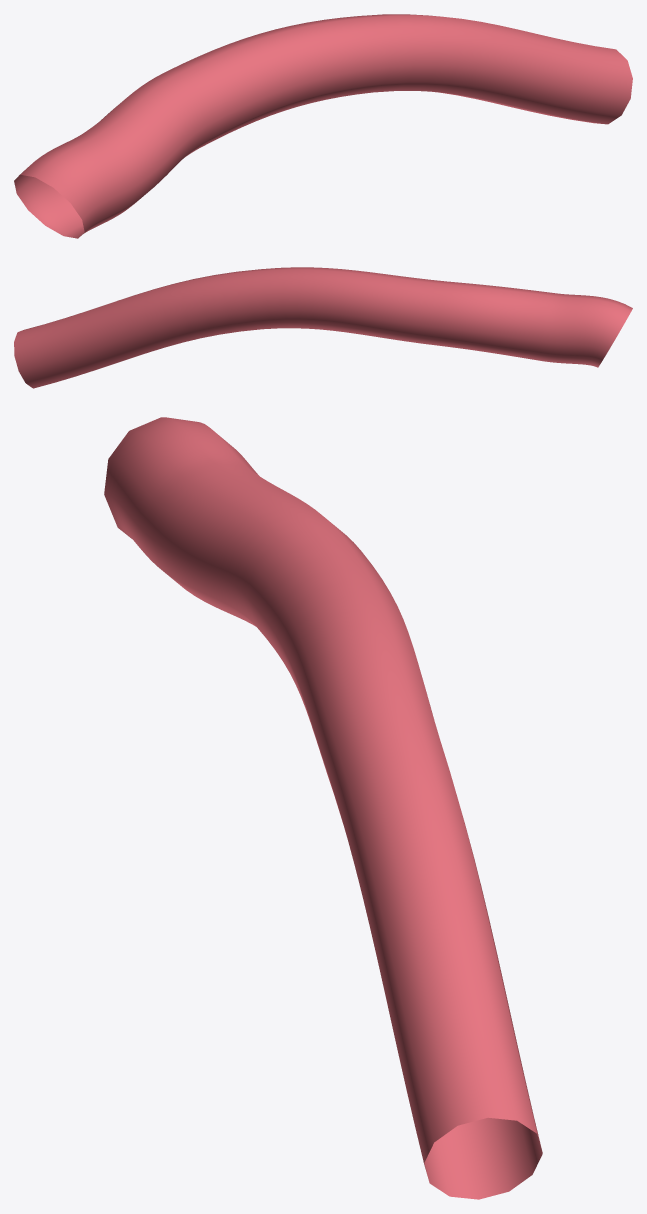
3 views of the same model, one above another, from view 1: azimuth 30°, elevation 25°; view 2: azimuth 150°, elevation 25°; view 3: azimuth 270°, elevation 25° (orthographic). The views are drawn at different scales.
Visible parts, largest first — view 1: ZA_0d31b1161e04f2d7; view 2: ZA_0d31b1161e04f2d7; view 3: ZA_0d31b1161e04f2d7.
Part boxes in pixels (x1=…): ZA_0d31b1161e04f2d7: x1=14, y1=14, x2=632, y2=238; ZA_0d31b1161e04f2d7: x1=14, y1=267, x2=632, y2=388; ZA_0d31b1161e04f2d7: x1=104, y1=417, x2=542, y2=1199.
Bounding box in the file's own units: 0.0715 × 0.0203 × 0.0253.
